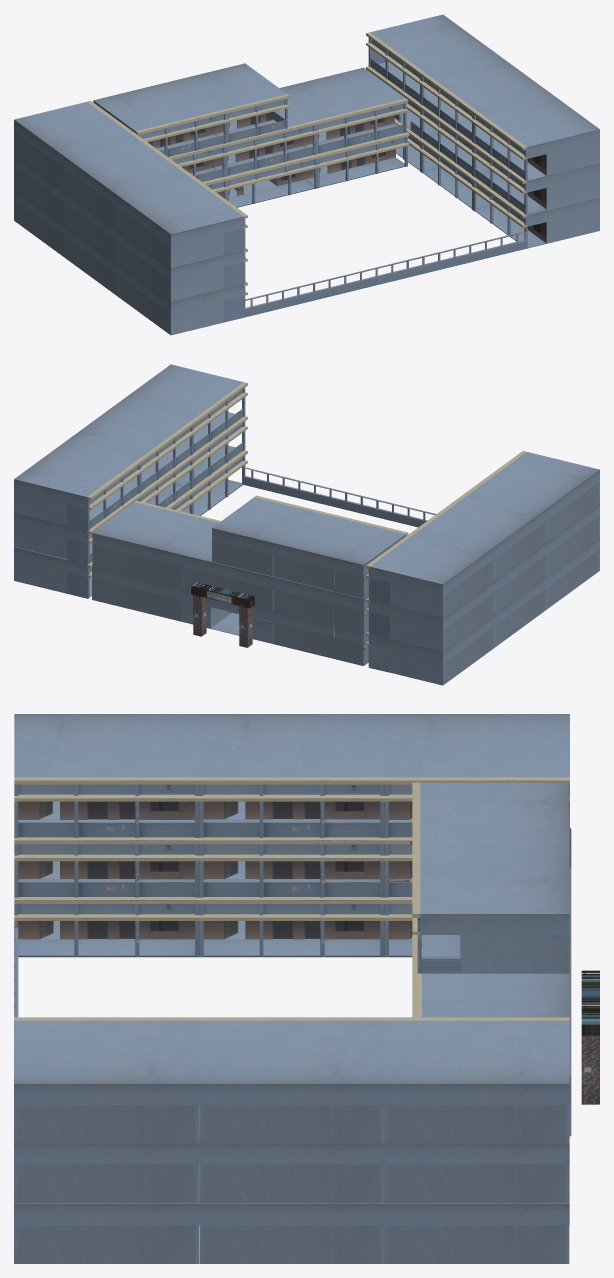
File: jamalpur_zilla_school_2022.glb
3 renders of one model, top to bottom at view 1: azimuth 30°, elevation 25°; view 2: azimuth 150°, elevation 25°; view 3: azimuth 270°, elevation 25°, orthographic. The views are drawn at different scales.
Parts seen in each view (by area): view 1: 1. jzs.002, 1. jzs.007, 1. jzs.005, 1. jzs.004, 1. jzs.006, 1. jzs, 1. jzs.003; view 2: 1. jzs.002, 1. jzs.007, 1. jzs.005, 1. jzs.004, 1. jzs.003, 1. jzs.006, 1. jzs; view 3: 1. jzs.007, 1. jzs.002, 1. jzs.006, 1. jzs.004, 1. jzs, 1. jzs.005, 1. jzs.003.
Boxes of the visible parts, box(x1,y1,x2,y2) form: 1. jzs.002: box(14, 101, 247, 301); 1. jzs.007: box(366, 14, 599, 214); 1. jzs.005: box(148, 67, 408, 181); 1. jzs.004: box(93, 63, 289, 156); 1. jzs.006: box(244, 49, 599, 317); 1. jzs: box(14, 187, 247, 335); 1. jzs.003: box(202, 123, 409, 207); 1. jzs.002: box(366, 451, 599, 651); 1. jzs.007: box(14, 364, 247, 564); 1. jzs.005: box(92, 500, 368, 638); 1. jzs.004: box(212, 495, 408, 598); 1. jzs.003: box(92, 566, 368, 665); 1. jzs.006: box(14, 450, 435, 598); 1. jzs: box(366, 537, 599, 685); 1. jzs.007: box(14, 1017, 569, 1203); 1. jzs.002: box(14, 714, 569, 897); 1. jzs.006: box(14, 927, 569, 1263); 1. jzs.004: box(412, 782, 569, 973); 1. jzs: box(14, 897, 412, 957); 1. jzs.005: box(414, 828, 571, 1136); 1. jzs.003: box(412, 935, 599, 1104).
Size of the model in its own units: 48.3 by 11.12 by 32.27.
4 materials, 2 textured.
